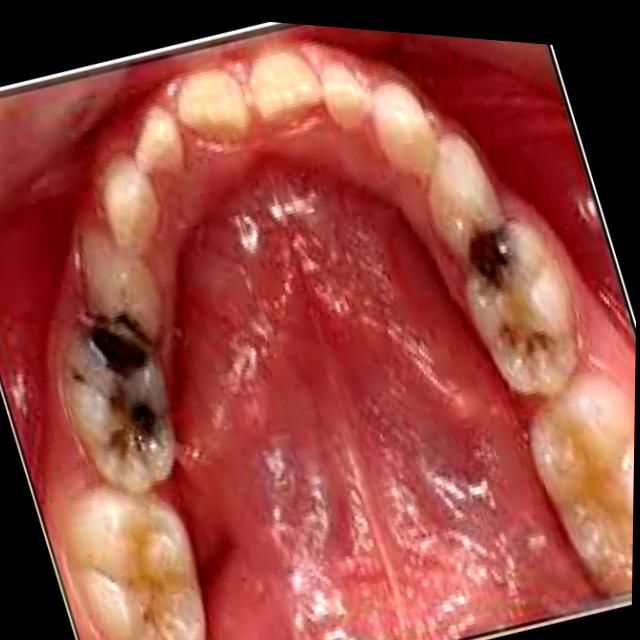cariess: (430, 136, 573, 393), (58, 256, 175, 493)
